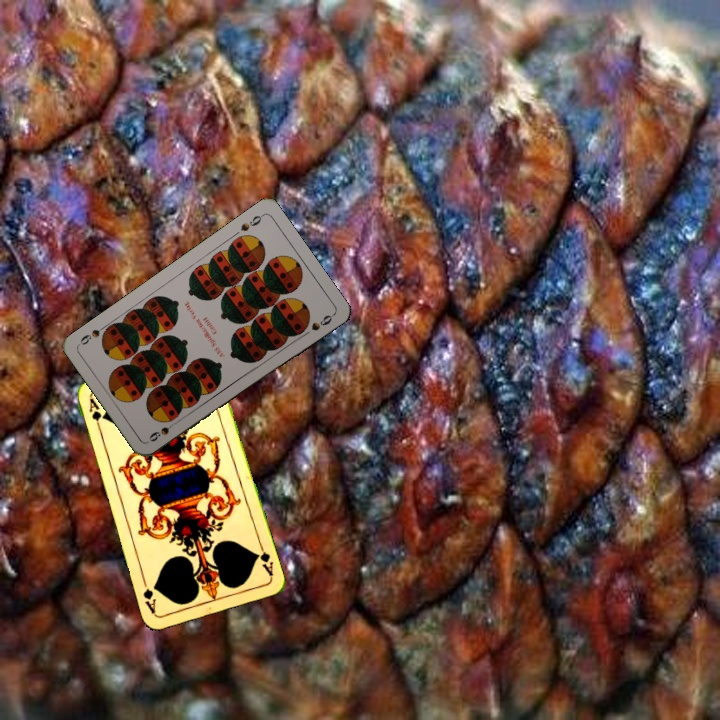GA: (252, 540, 276, 579), (85, 394, 105, 434)
S9: (145, 416, 181, 444), (237, 210, 266, 234)
